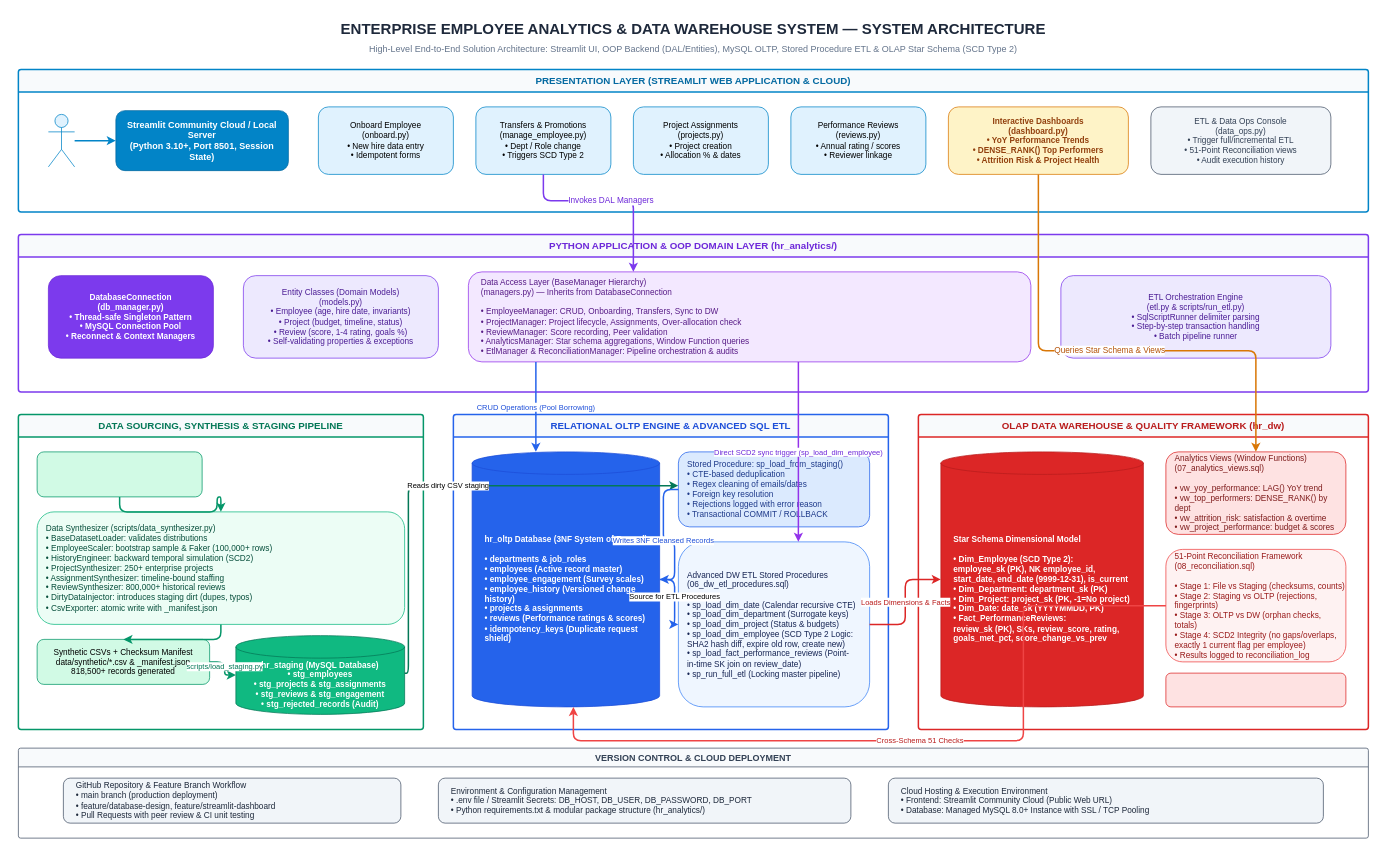
Image size: 1382x851. Some labels were removed from this diagram. Each missing label, with the centre of its shape:
"etl_audit_log & reconciliation_log Audit trail of runs, row counts, durations" belongs at (x=1255, y=689).
"HR Team & Executives (End Users)" belongs at (x=61, y=140).
"IBM HR Analytics Dataset (Raw CSV: ~1,470 rows) Single point-in-time snapshot" belongs at (x=119, y=474).
